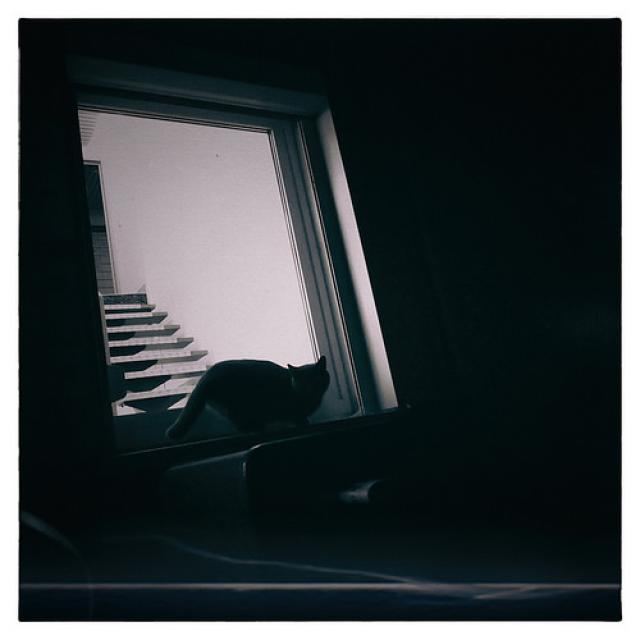Cat: (168, 331, 345, 462)
